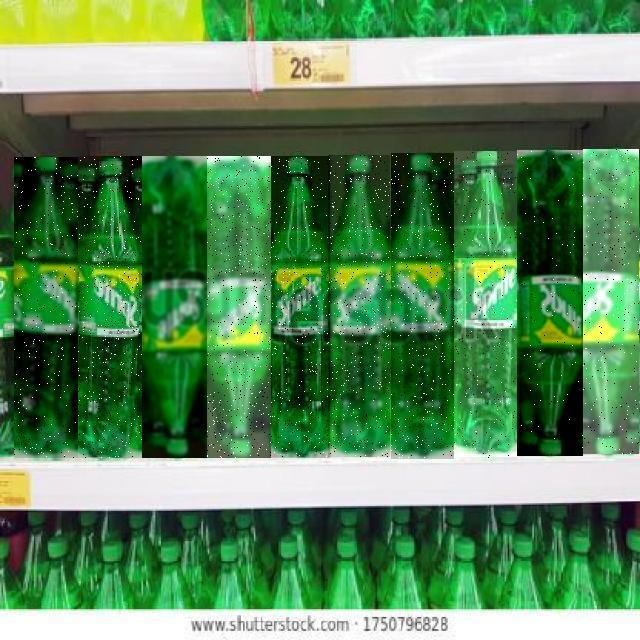Drinks: (517, 150, 583, 456), (454, 152, 518, 460), (206, 156, 271, 458), (142, 156, 207, 458), (78, 157, 142, 459), (14, 158, 78, 460), (391, 153, 454, 459), (328, 155, 390, 457), (270, 157, 330, 459), (583, 149, 639, 454)
